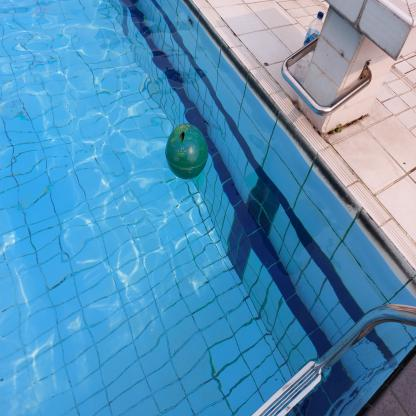green_buoy: (165, 121, 208, 180)
